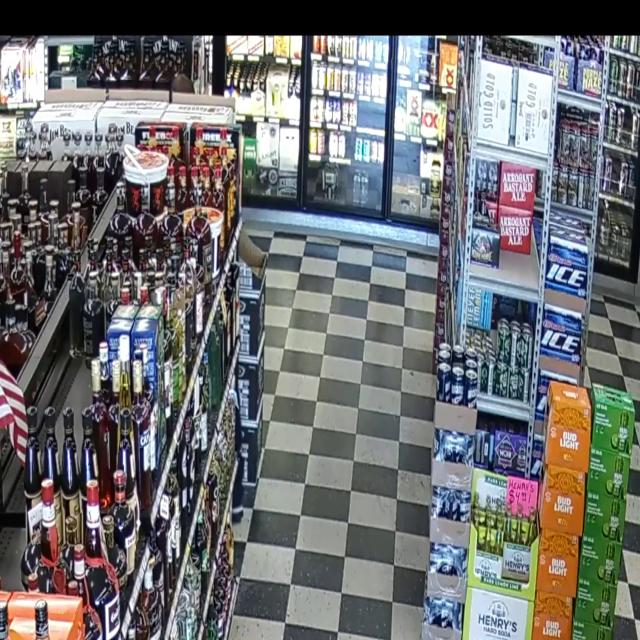normal: (170, 70, 195, 96)
